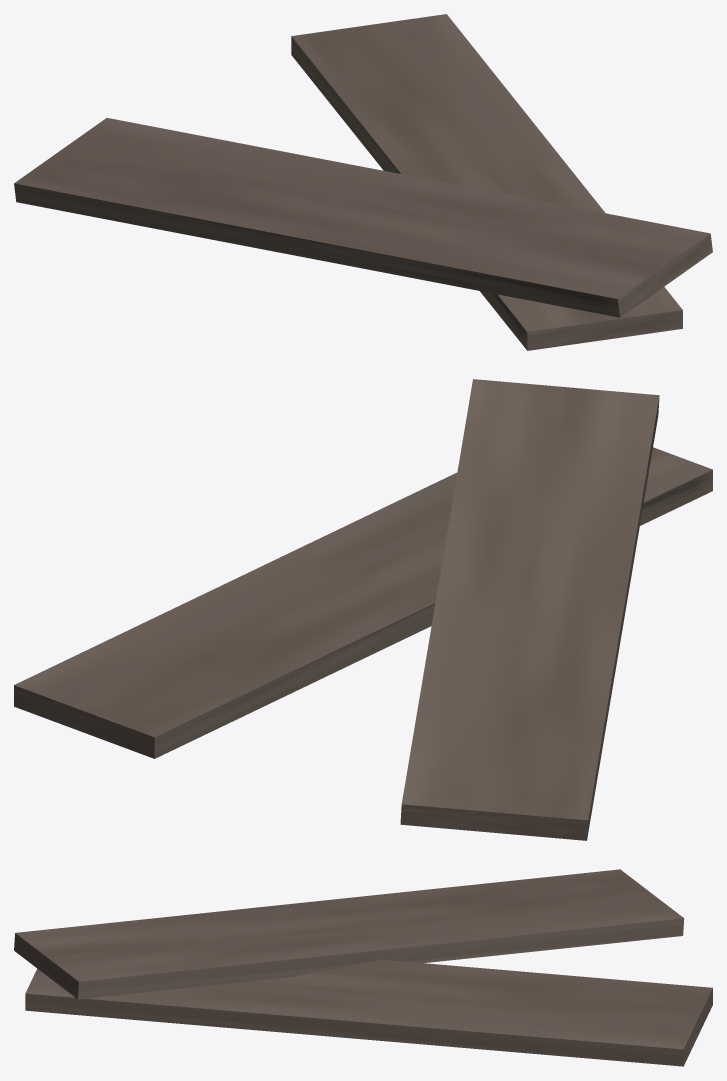
The model's file is Planks.fbx.
The picture shows the model from 3 angles, top to bottom: view 1: azimuth 30°, elevation 25°; view 2: azimuth 150°, elevation 25°; view 3: azimuth 270°, elevation 25°; orthographic projection. The views are drawn at different scales.
Visible parts, largest first — view 1: Cube.001, Cube; view 2: Cube.001, Cube; view 3: Cube.001, Cube.
Part boxes in pixels (x1=…): Cube.001: x1=14, y1=118, x2=712, y2=317; Cube: x1=291, y1=14, x2=682, y2=350; Cube.001: x1=400, y1=379, x2=659, y2=840; Cube: x1=14, y1=447, x2=712, y2=758; Cube.001: x1=14, y1=869, x2=684, y2=999; Cube: x1=25, y1=959, x2=712, y2=1066.
Bounding box in the file's own units: 572 × 105 × 815.
2 materials, 2 textured.
